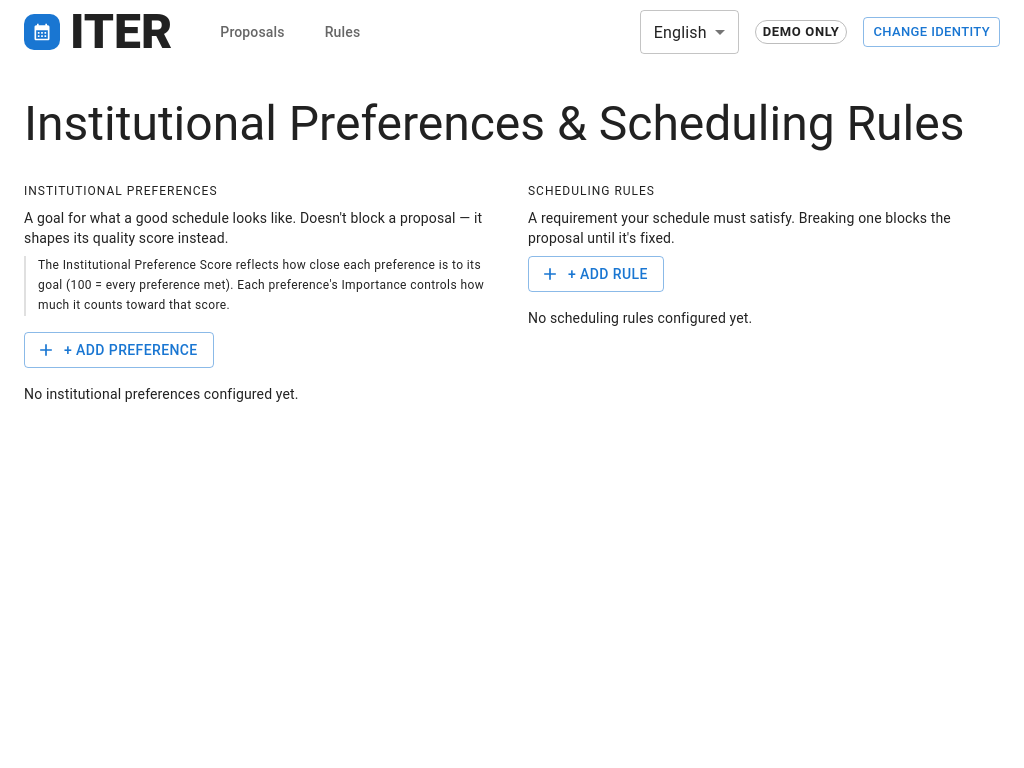
it: RulesPage › opens Add Preference dialog on button click
Click the button "+ Add Preference" at (119, 350), box [24,332,214,368]
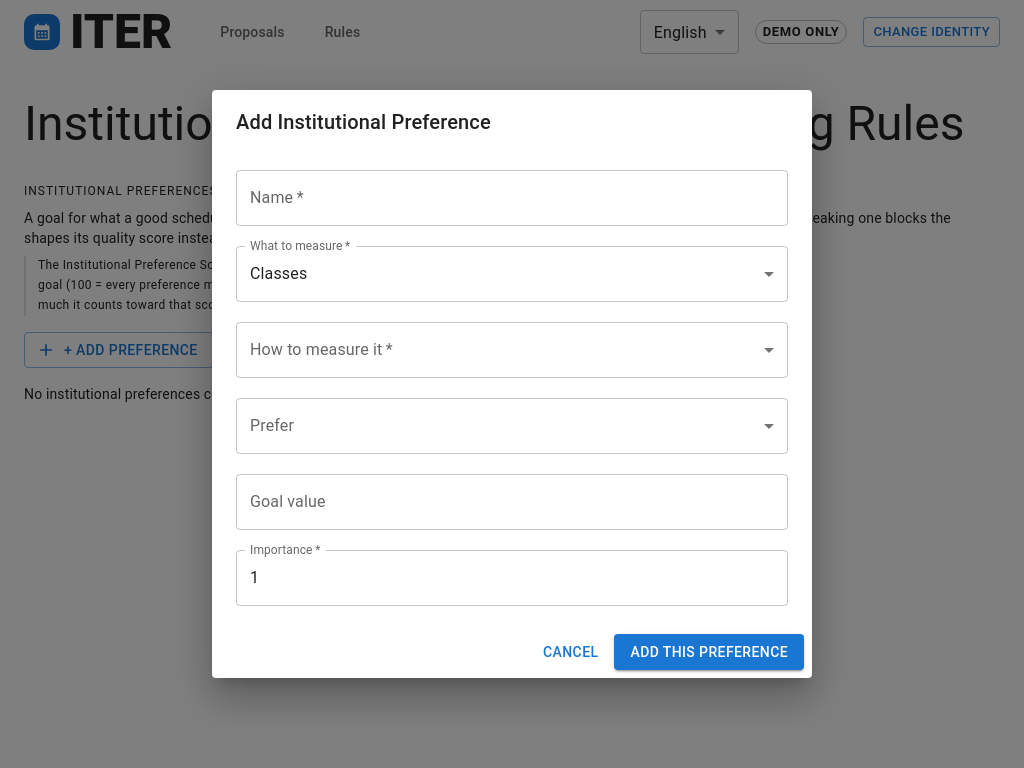
expect the heading "Add Institutional Preference" is shown: met, box [236,110,491,134]
